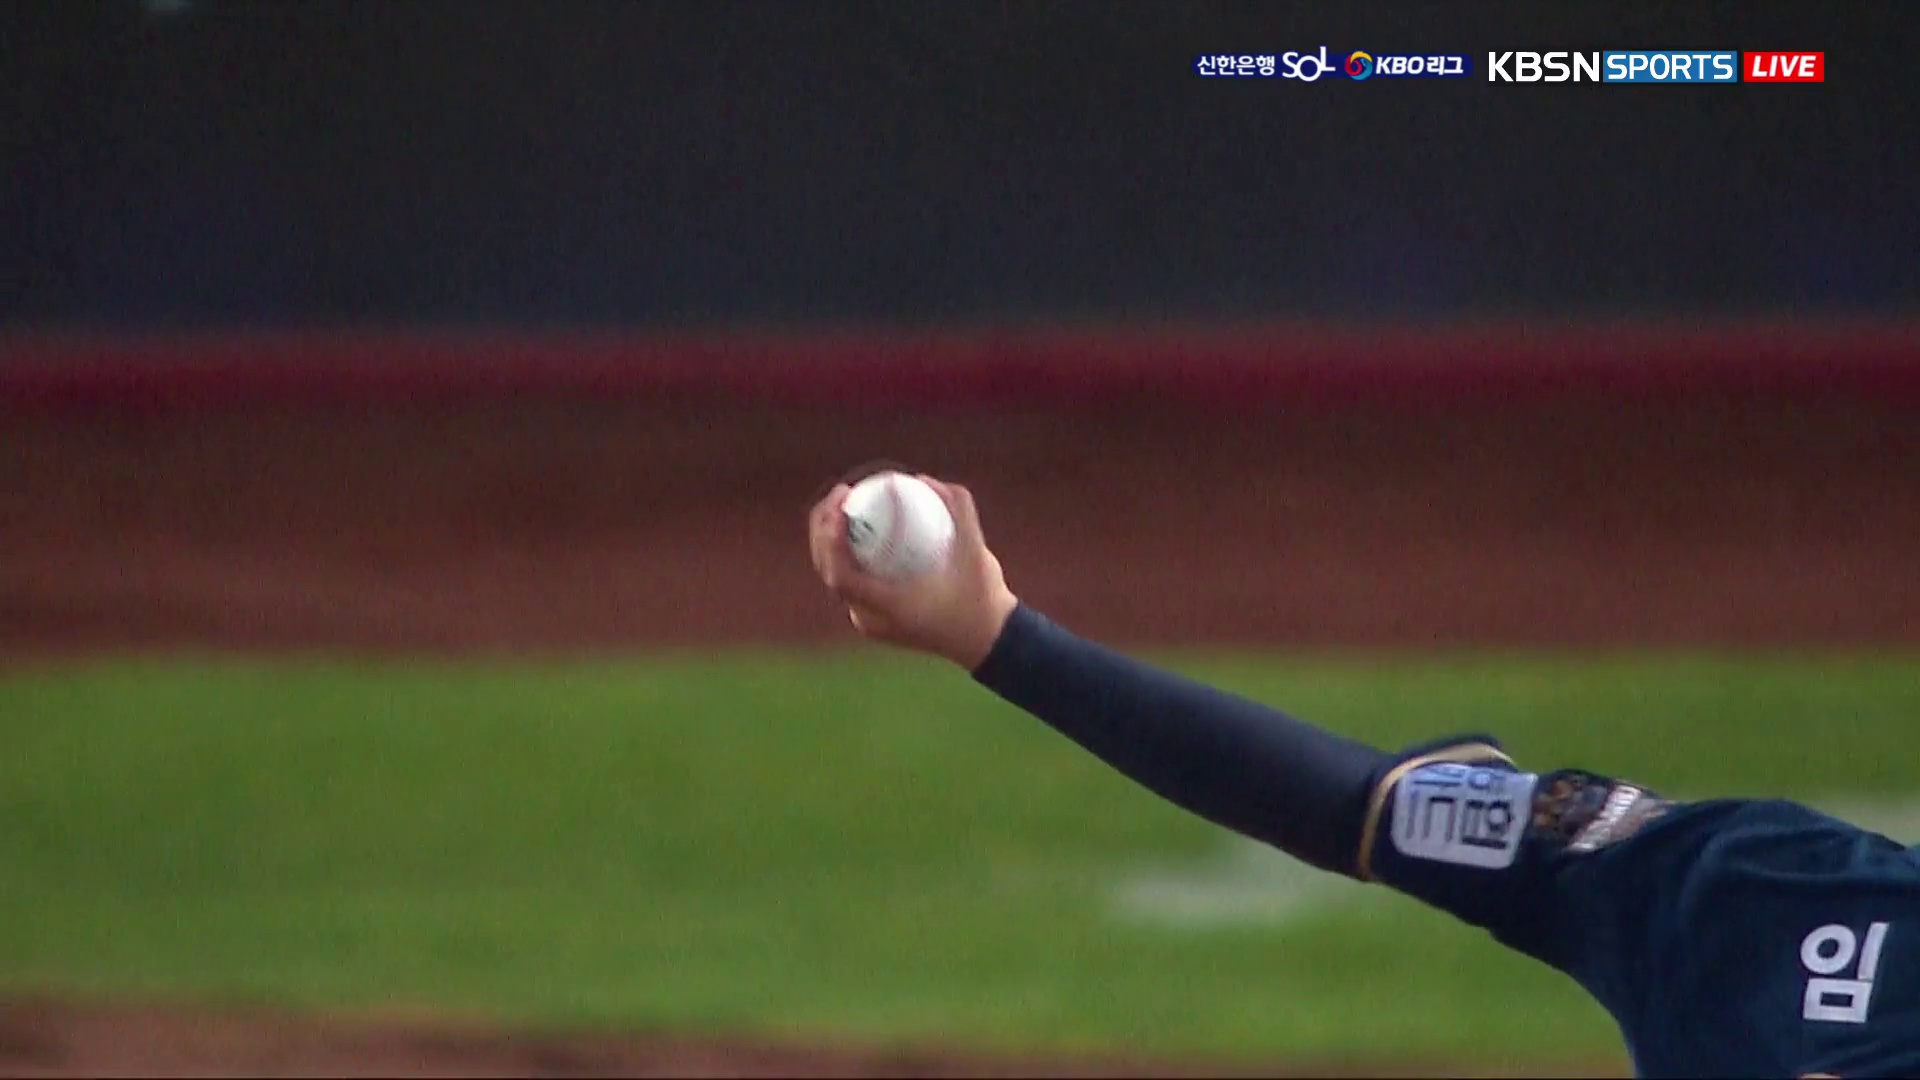zoomin_hand: (803, 464, 1451, 897)
